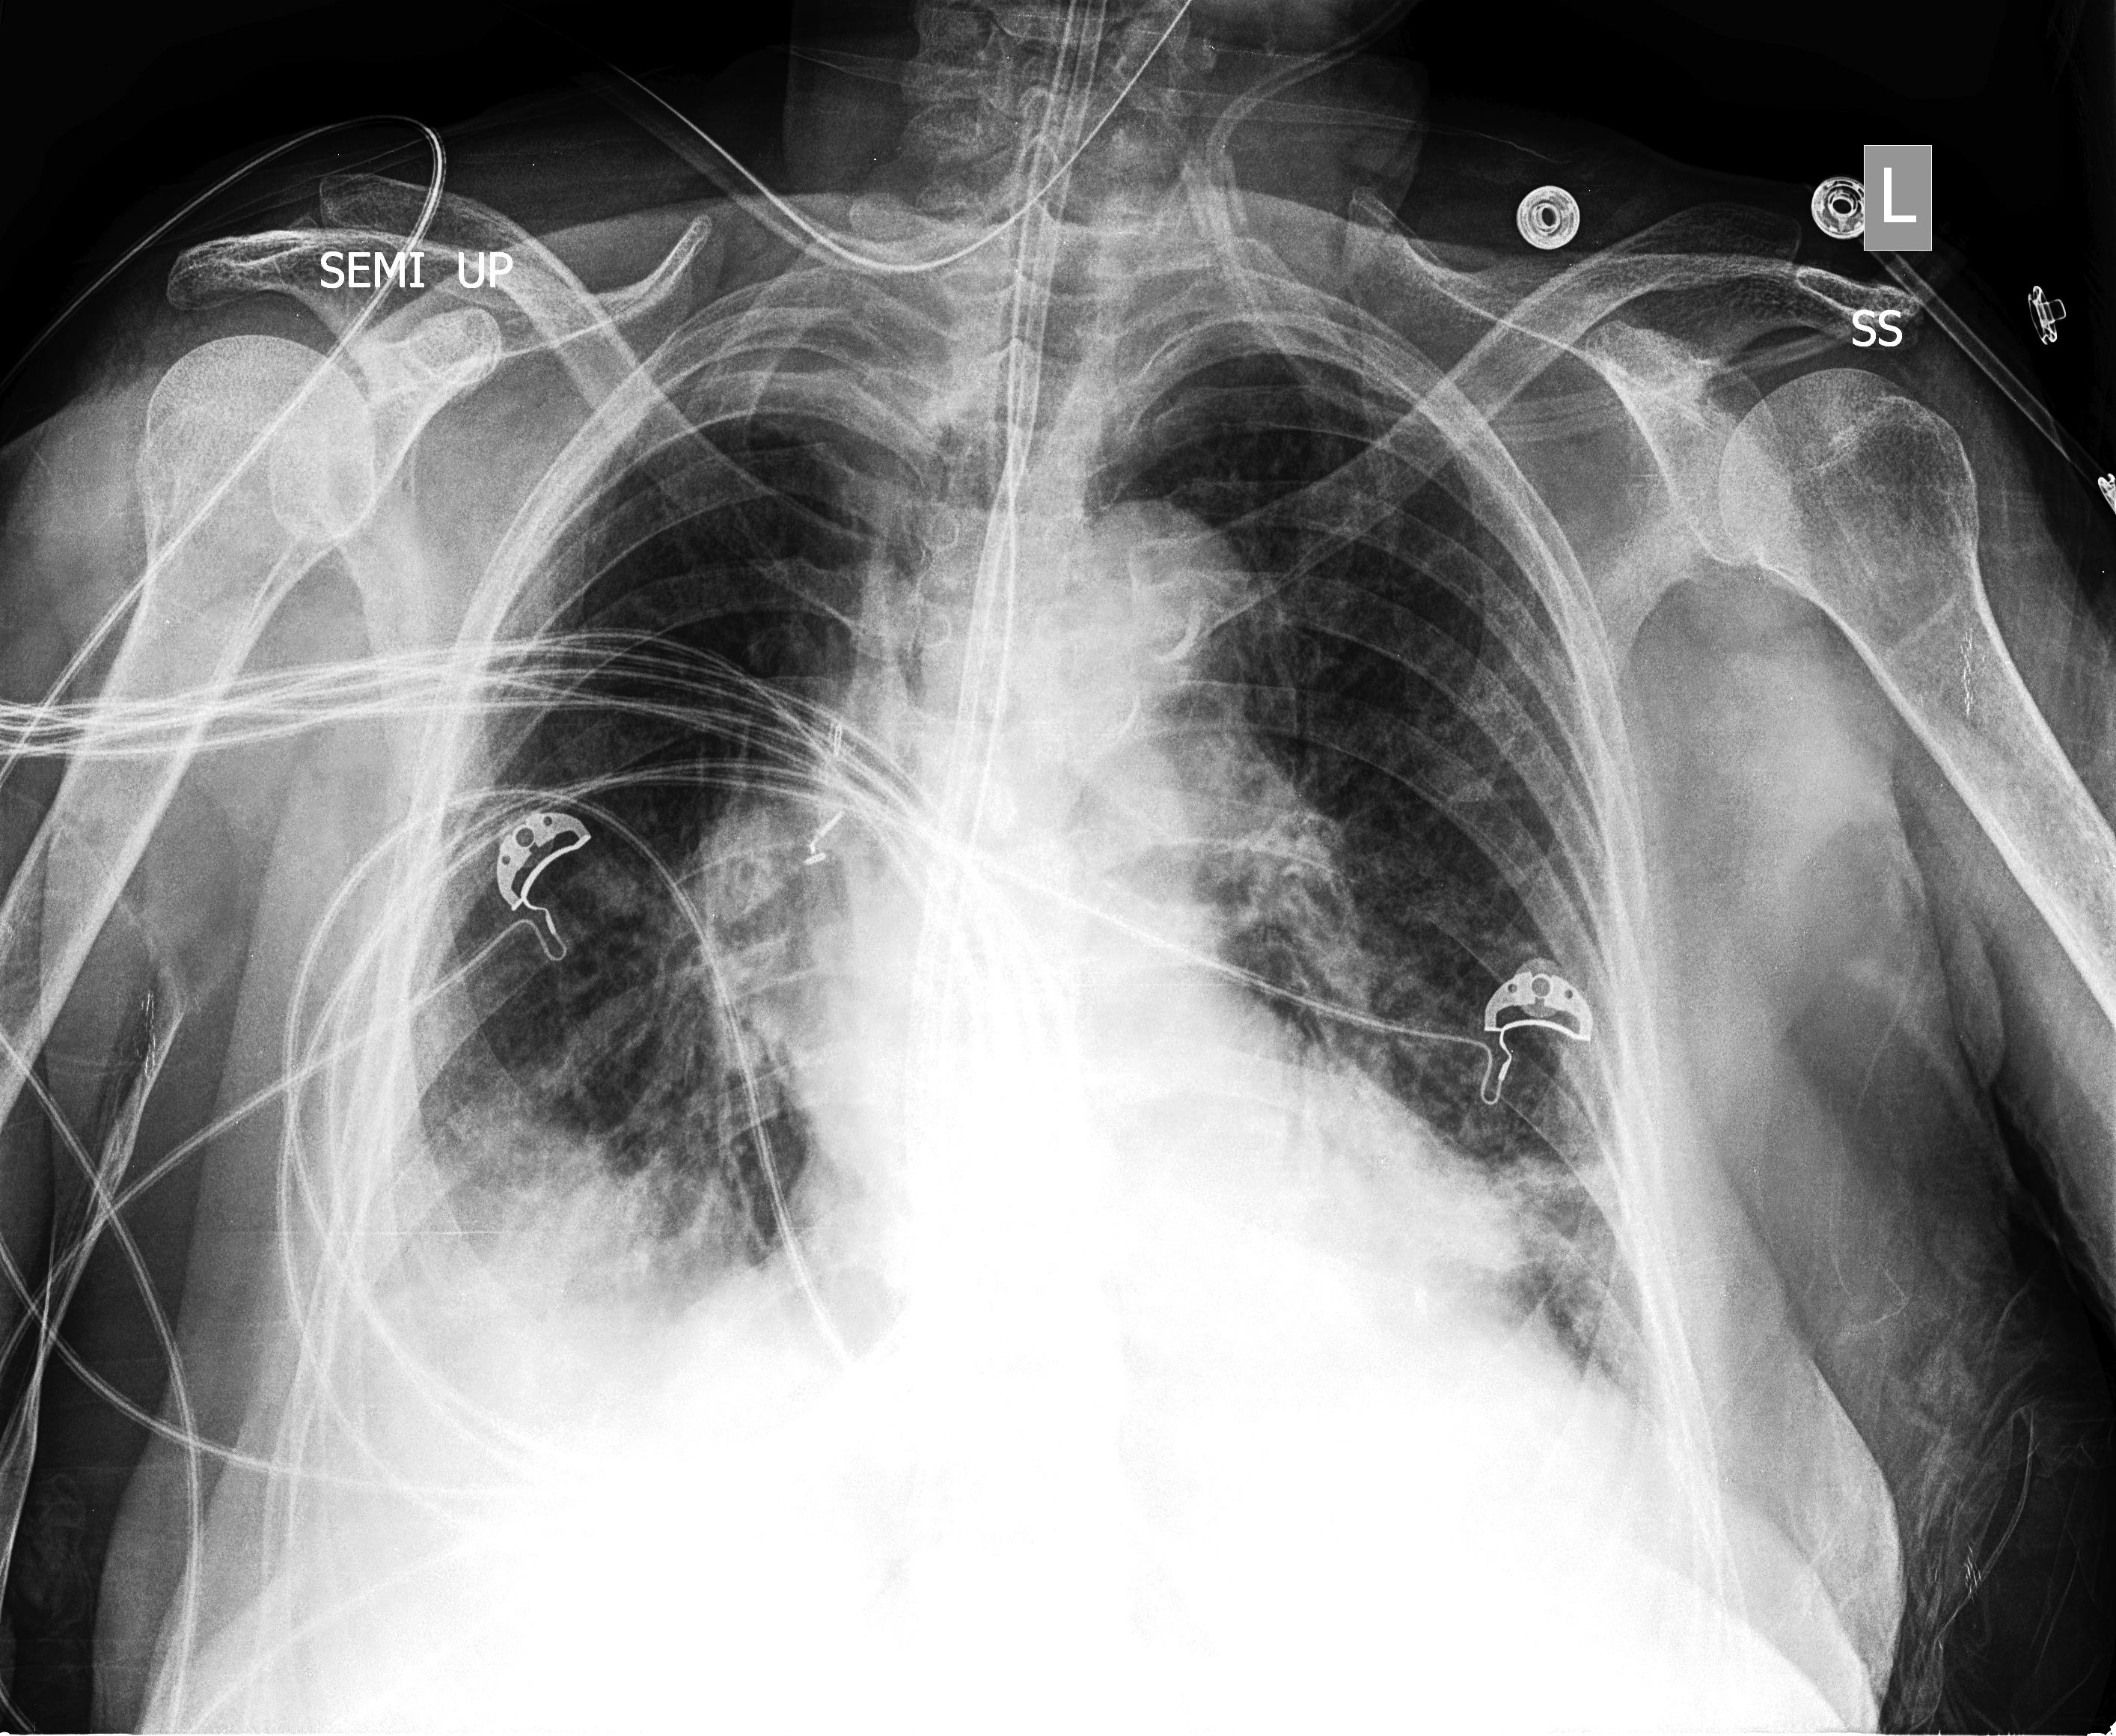Pleural Effusion: (285, 1119, 692, 1527)
